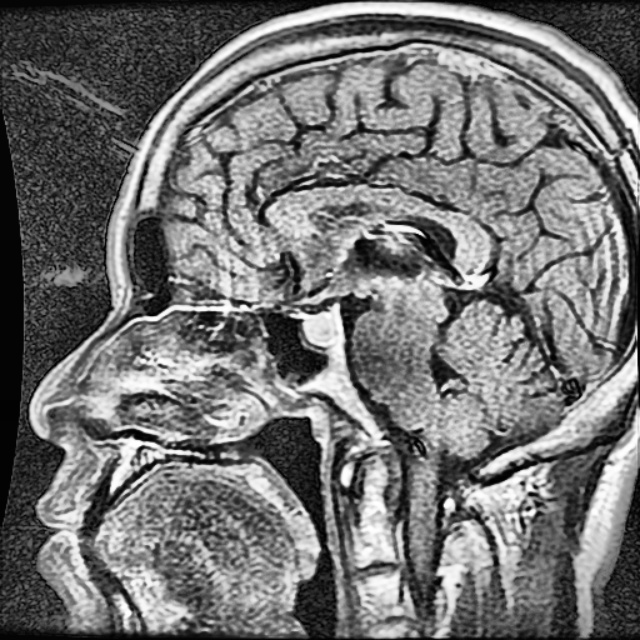Pituitary: (299, 310, 344, 349)
